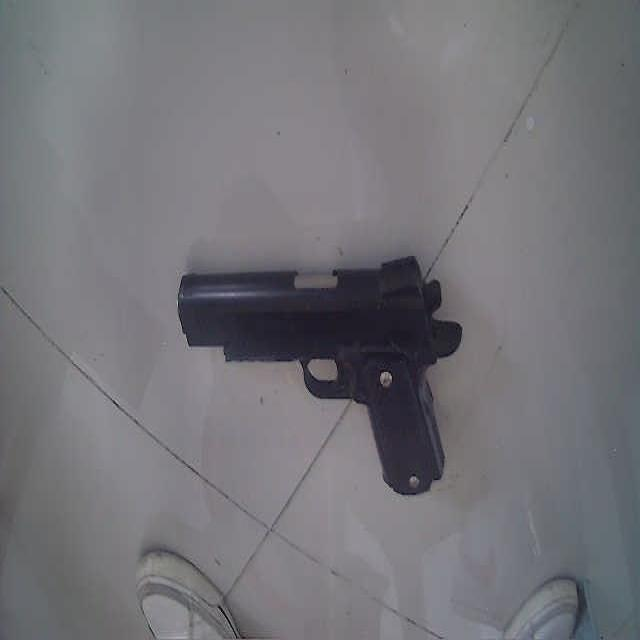pistol: (174, 259, 460, 496)
